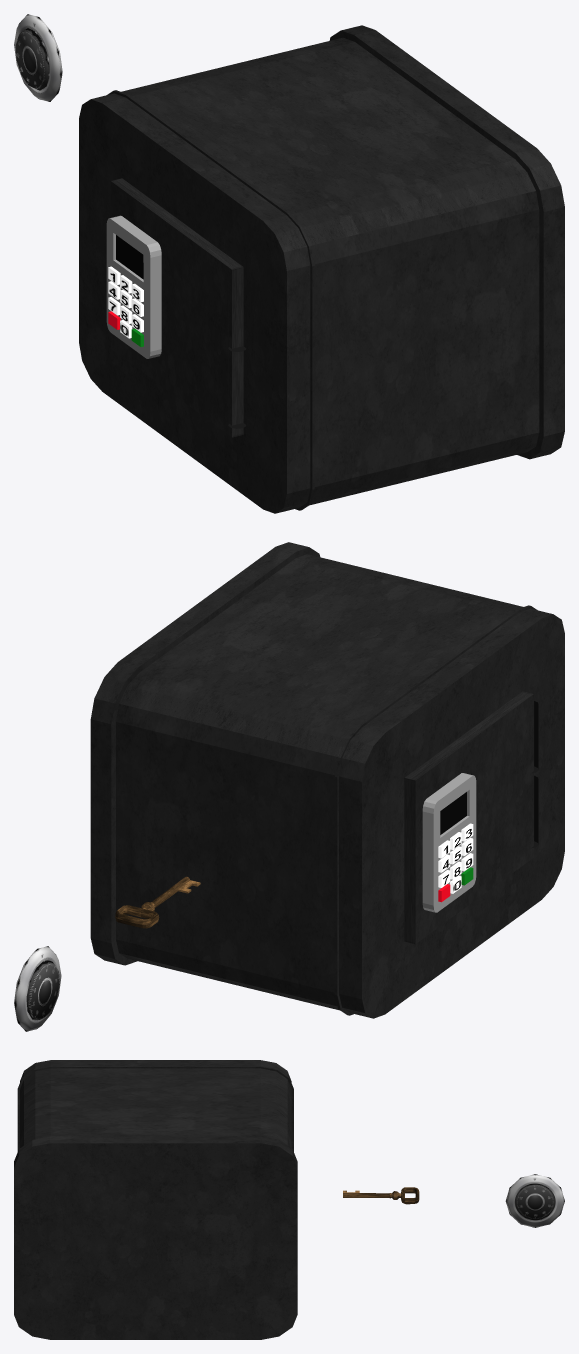
File: safe_GWJ99.glb
The picture shows the model from 3 angles, top to bottom: view 1: azimuth 30°, elevation 25°; view 2: azimuth 150°, elevation 25°; view 3: azimuth 270°, elevation 25°; orthographic projection. The views are drawn at different scales.
Visible parts, largest first — view 1: safe, safeHinge, KeyPad, outterDial, innerDial; view 2: safe, safeHinge, KeyPad, outterDial, innerDial, key; view 3: safe, outterDial, key.
Boxes of the visible parts, x1=… form: safe: x1=79, y1=25, x2=564, y2=513; safeHinge: x1=110, y1=178, x2=246, y2=437; KeyPad: x1=106, y1=215, x2=161, y2=358; outterDial: x1=14, y1=14, x2=62, y2=101; innerDial: x1=15, y1=28, x2=49, y2=90; safe: x1=90, y1=542, x2=564, y2=1018; safeHinge: x1=404, y1=691, x2=538, y2=944; KeyPad: x1=422, y1=773, x2=476, y2=912; outterDial: x1=14, y1=946, x2=61, y2=1031; innerDial: x1=26, y1=960, x2=59, y2=1019; key: x1=115, y1=876, x2=200, y2=928; safe: x1=14, y1=1060, x2=297, y2=1339; outterDial: x1=505, y1=1174, x2=564, y2=1227; key: x1=343, y1=1187, x2=419, y2=1204.
Size of the model in its own units: 2.17 by 2.09 by 5.3.
7 materials, 3 textured.
